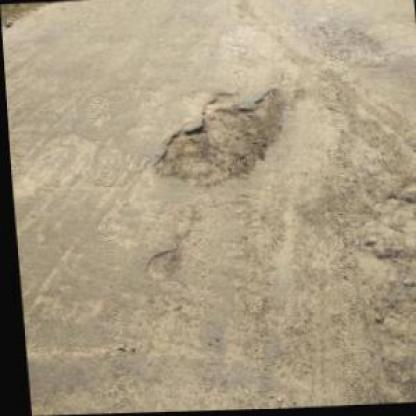pothole: (141, 86, 290, 191), (137, 247, 176, 283)
